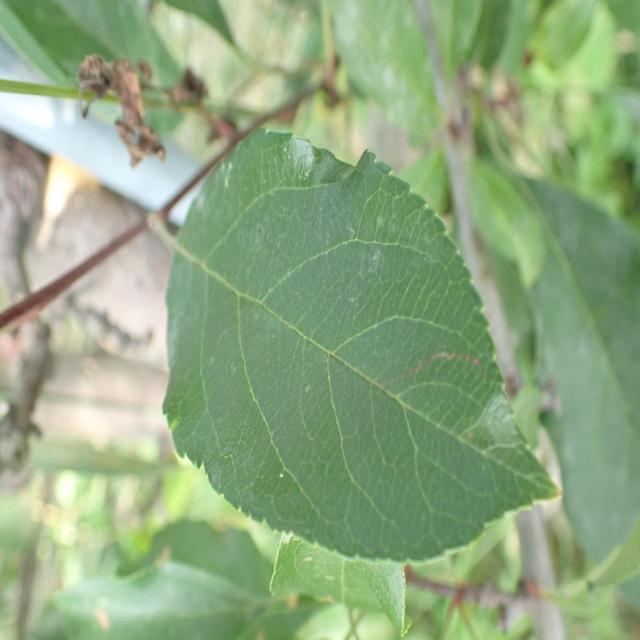Powdery_mildew: (165, 128, 548, 570)
